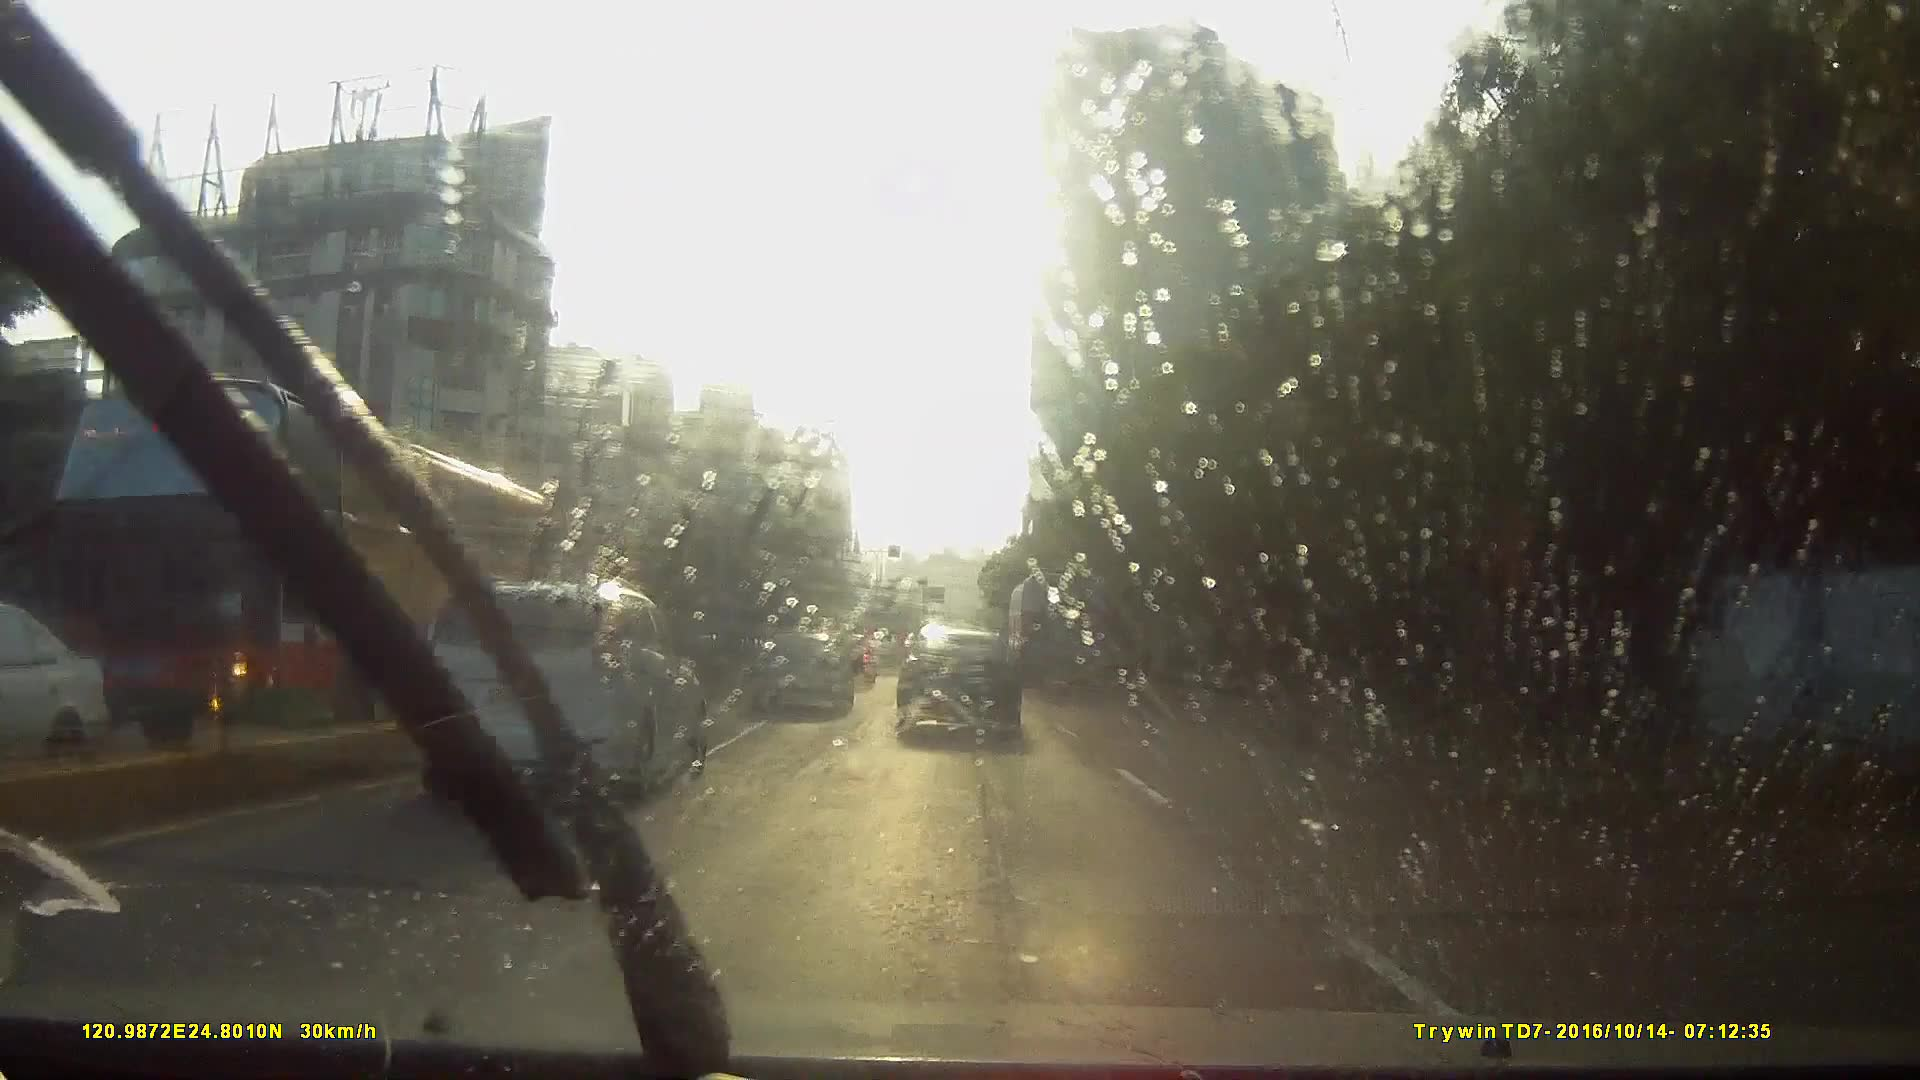vehicle: (26, 368, 568, 766), (251, 556, 684, 868), (409, 574, 707, 802), (894, 621, 1022, 735), (1007, 567, 1112, 694), (748, 629, 855, 716), (866, 638, 915, 687)
